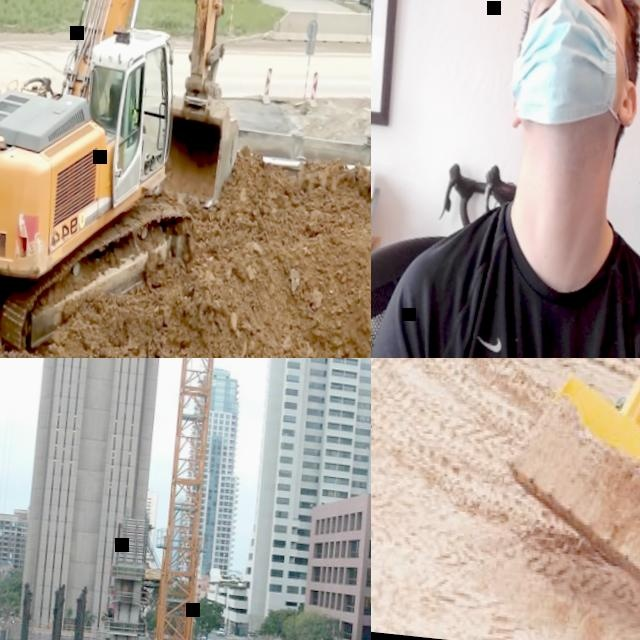Mask: (507, 0, 640, 136)
NO-Safety Vest: (402, 207, 640, 358)
Person: (371, 0, 640, 358), (118, 83, 140, 144)
Safety Vest: (127, 99, 137, 121)
machinery: (0, 0, 275, 358), (485, 358, 640, 640)
